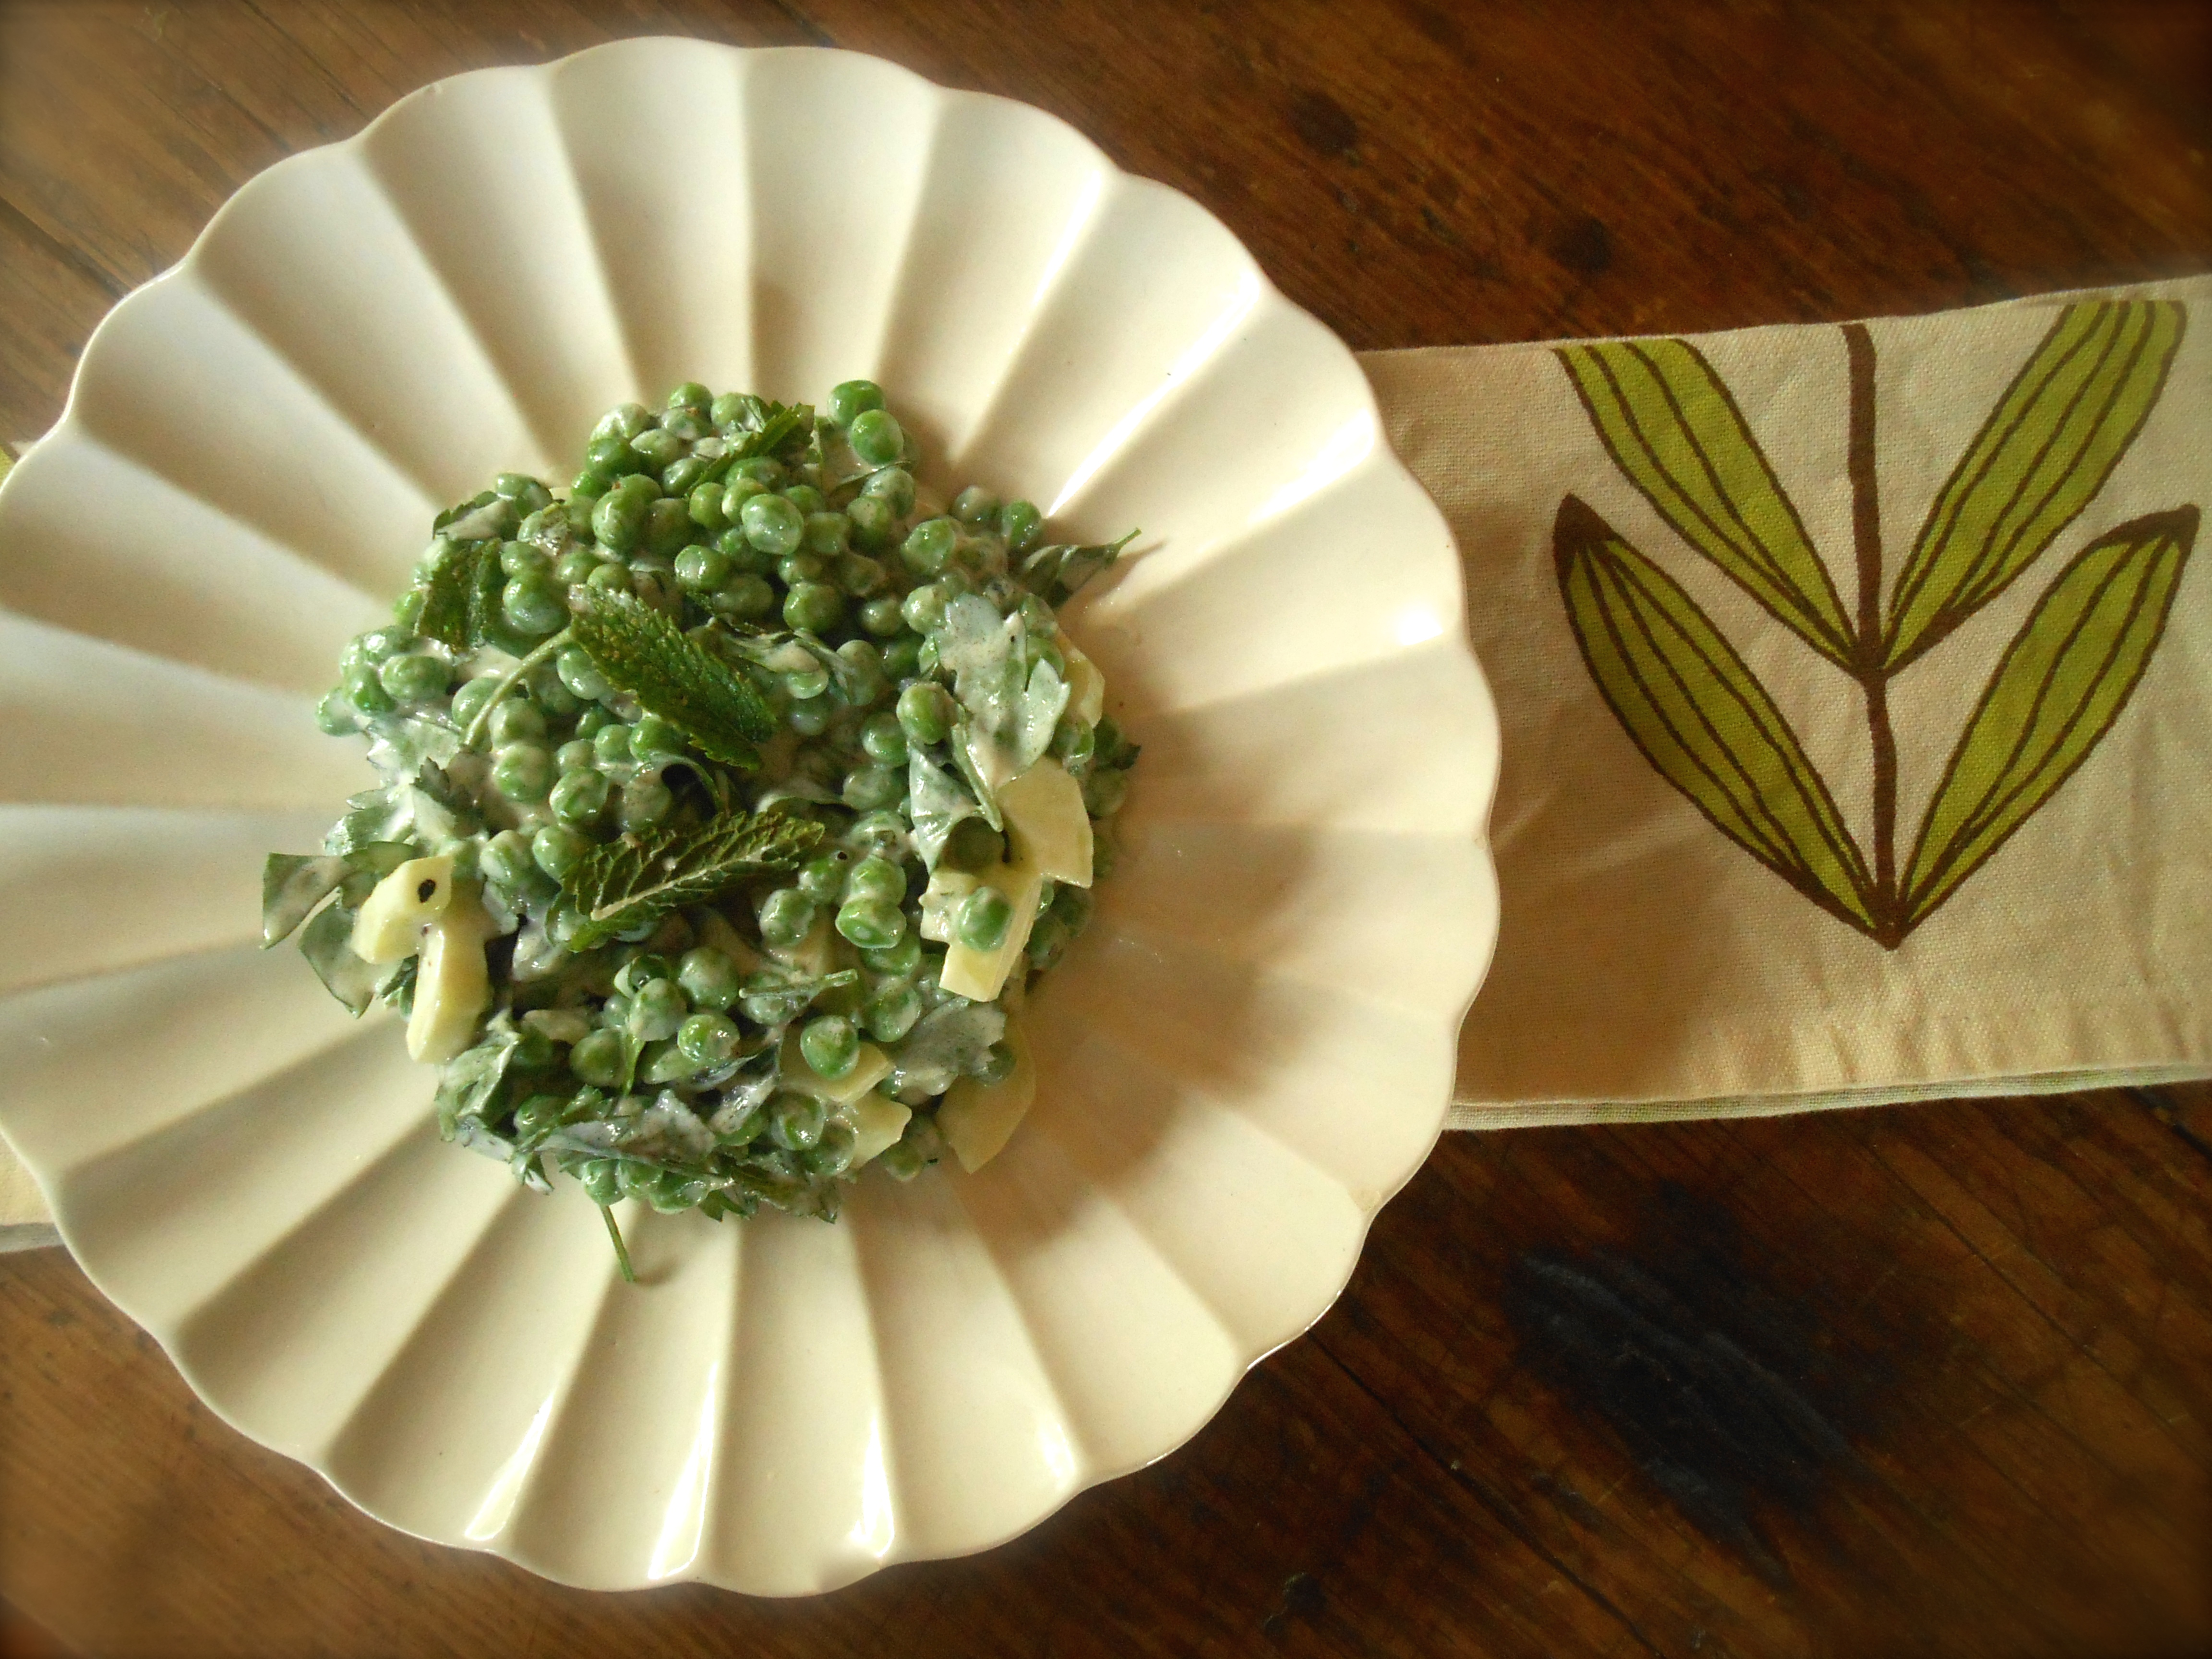boiled peas: (380, 481, 1076, 1171)
